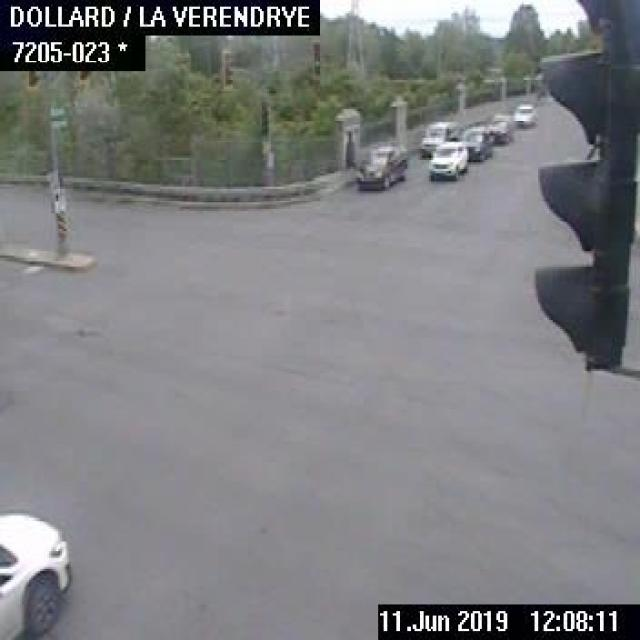vehicle: (0, 509, 69, 638), (351, 138, 407, 191), (425, 138, 470, 178), (418, 119, 455, 157), (462, 125, 492, 162), (488, 110, 512, 147), (512, 100, 537, 130)
